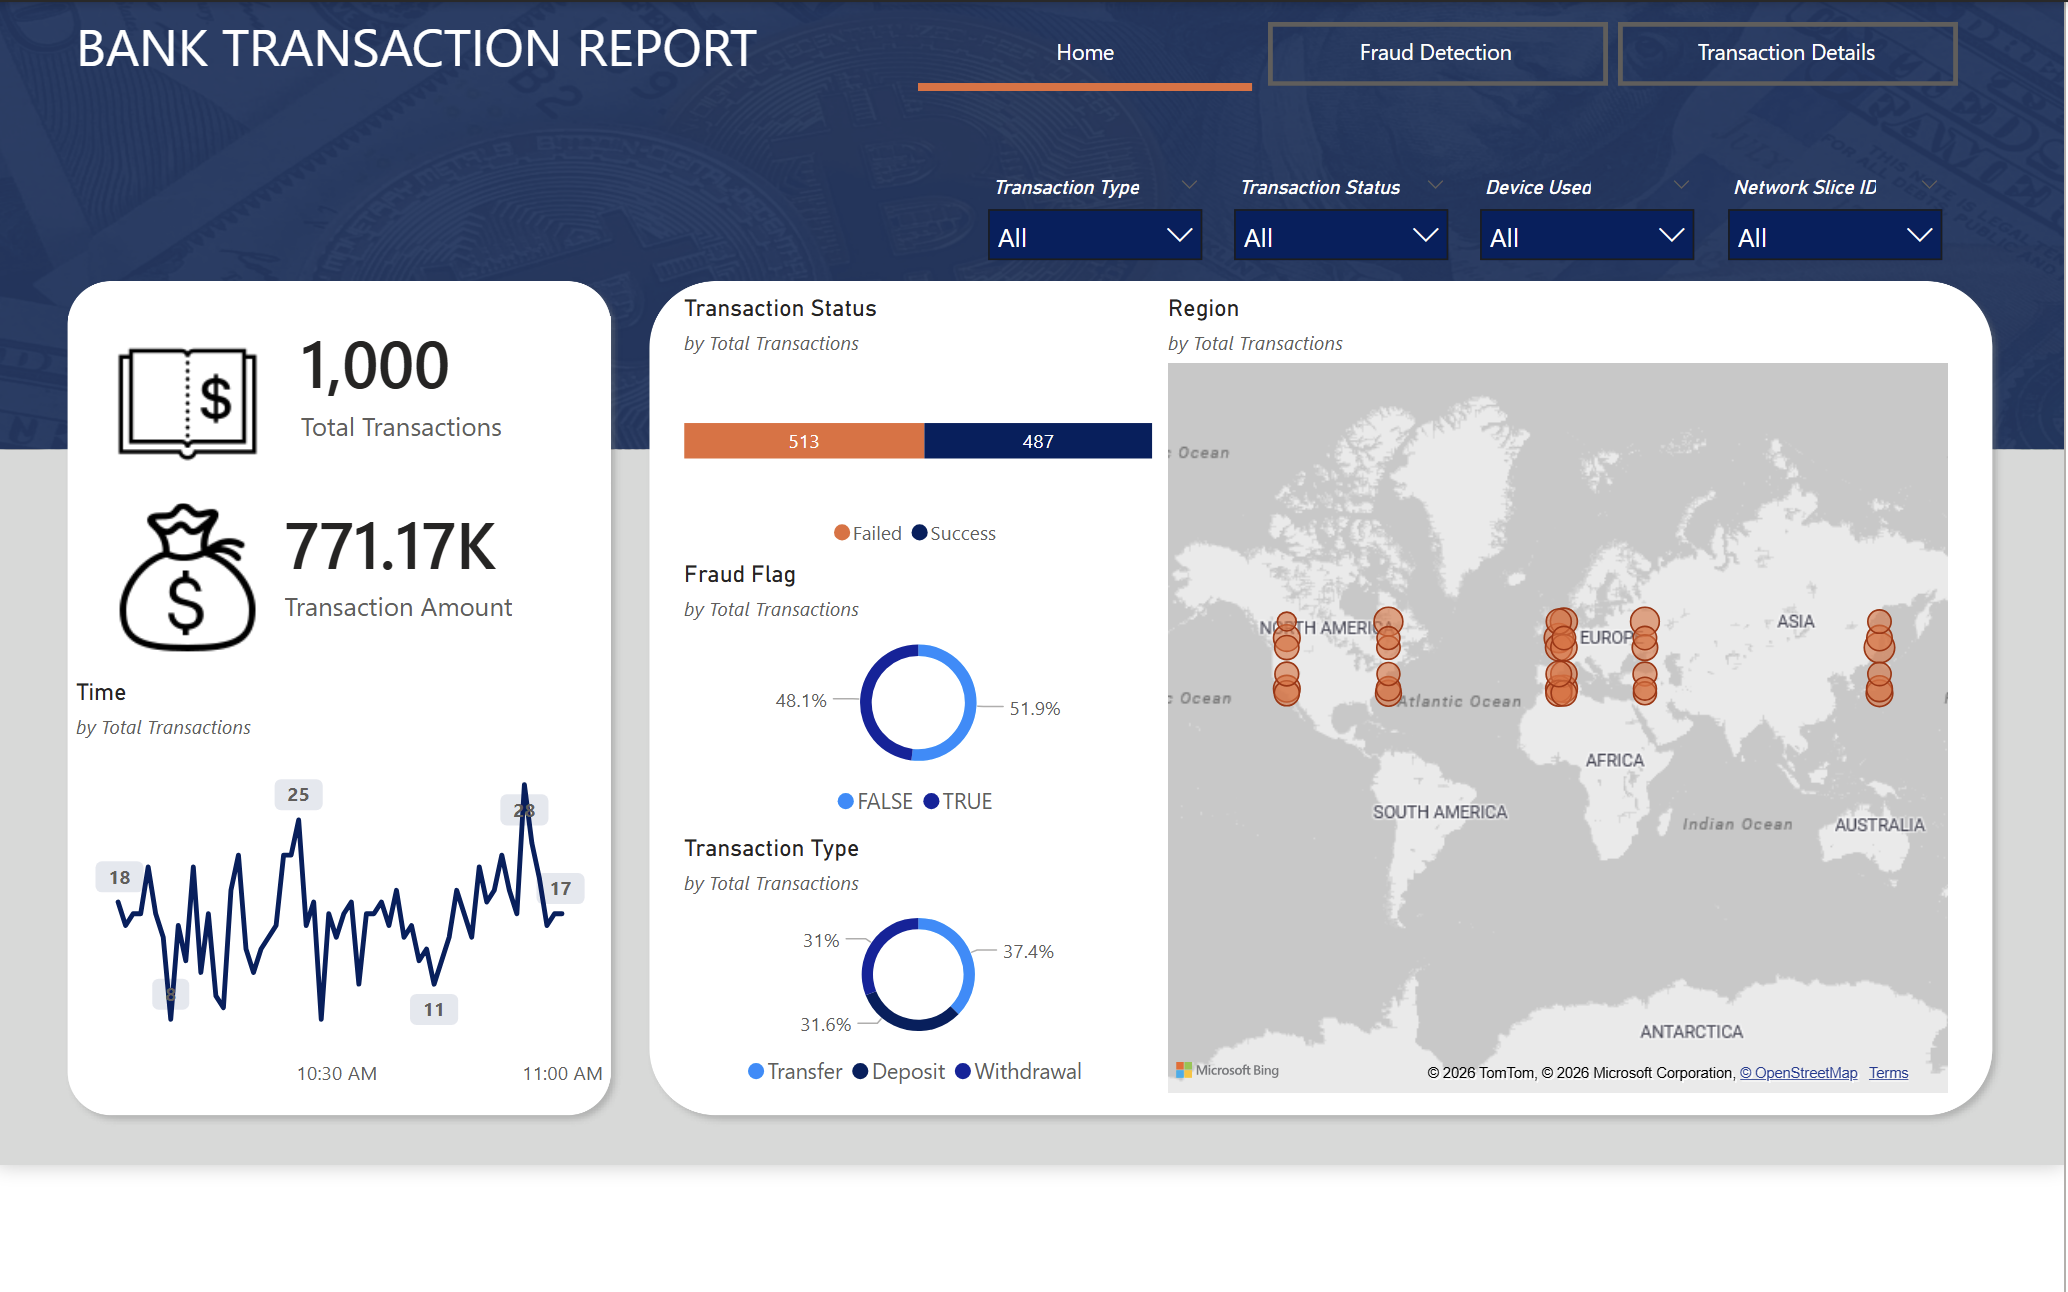

The page's visual inventory and layout, read from the dashboard file:
{"tool":"powerbi","page":{"name":"Home","canvas":[1280,720],"ordinal":0},"visuals":[{"type":"cardVisual","fields":{"Data":["bank transaction_data.Total Transactions"]},"box":[44.7,194.7,336.8,103.9],"z":0},{"type":"cardVisual","fields":{"Data":["bank transaction_data.Total Transaction Amount"]},"box":[44.7,298.6,336.8,119.7],"z":1000},{"type":"lineChart","title":"Time","fields":{"Y":["bank transaction_data.Total Transactions"],"Category":["bank transaction_data.Time"]},"box":[44.7,418.3,336.8,263.1],"z":2000},{"type":"barChart","title":"Transaction Status","fields":{"Series":["bank transaction_data.Transaction Status"],"Y":["bank transaction_data.Total Transactions"]},"box":[421,180.2,299.9,165.8],"z":3000},{"type":"donutChart","title":"Fraud Flag","fields":{"Y":["bank transaction_data.Total Transactions"],"Category":["bank transaction_data.Fraud Flag"]},"box":[421,346,299.9,168.4],"z":4000},{"type":"donutChart","title":"Transaction Type","fields":{"Y":["bank transaction_data.Total Transactions"],"Category":["bank transaction_data.Transaction Type"]},"box":[421,514.4,299.9,165.8],"z":5000},{"type":"map","title":"Region","fields":{"Size":["bank transaction_data.Total Transactions"],"Y":["bank transaction_data.Latitude Value"],"X":["bank transaction_data.Longitude Value"]},"box":[720.9,180.2,493.3,499.9],"z":6000},{"type":"slicer","fields":{"Values":["bank transaction_data.Network Slice ID"]},"box":[1061.6,102.6,152.6,60.5],"z":7000},{"type":"slicer","fields":{"Values":["bank transaction_data.Transaction Type"]},"box":[603.8,102.6,152.6,60.5],"z":8000},{"type":"slicer","fields":{"Values":["bank transaction_data.Transaction Status"]},"box":[756.4,102.6,152.6,60.5],"z":9000},{"type":"slicer","fields":{"Values":["bank transaction_data.Device Used"]},"box":[909,102.6,152.6,60.5],"z":10000},{"type":"textbox","box":[44.7,0,471,56.6],"z":11000},{"type":"pageNavigator","box":[570.9,6.6,643.3,50],"z":12000},{"type":"actionButton","box":[787.3,12.4,210.4,39.6],"z":13000},{"type":"actionButton","box":[1003.9,12.4,210.4,39.6],"z":14000}]}

Visuals, with their boxes on the page's 1280x720 design canvas (x1, y1, x2, y2). These are canvas units, not pixel positions in the 2068x1292 screenshot, which may show the page scaled, cropped or inside an application window:
cardVisual - bank transaction_data.Total Transactions: {"x1": 45, "y1": 195, "x2": 382, "y2": 299}
cardVisual - bank transaction_data.Total Transaction Amount: {"x1": 45, "y1": 299, "x2": 382, "y2": 418}
"Time" lineChart: {"x1": 45, "y1": 418, "x2": 382, "y2": 681}
"Transaction Status" barChart: {"x1": 421, "y1": 180, "x2": 721, "y2": 346}
"Fraud Flag" donutChart: {"x1": 421, "y1": 346, "x2": 721, "y2": 514}
"Transaction Type" donutChart: {"x1": 421, "y1": 514, "x2": 721, "y2": 680}
"Region" map: {"x1": 721, "y1": 180, "x2": 1214, "y2": 680}
slicer - bank transaction_data.Network Slice ID: {"x1": 1062, "y1": 103, "x2": 1214, "y2": 163}
slicer - bank transaction_data.Transaction Type: {"x1": 604, "y1": 103, "x2": 756, "y2": 163}
slicer - bank transaction_data.Transaction Status: {"x1": 756, "y1": 103, "x2": 909, "y2": 163}
slicer - bank transaction_data.Device Used: {"x1": 909, "y1": 103, "x2": 1062, "y2": 163}
textbox: {"x1": 45, "y1": 0, "x2": 516, "y2": 57}
pageNavigator: {"x1": 571, "y1": 7, "x2": 1214, "y2": 57}
actionButton: {"x1": 787, "y1": 12, "x2": 998, "y2": 52}
actionButton: {"x1": 1004, "y1": 12, "x2": 1214, "y2": 52}
